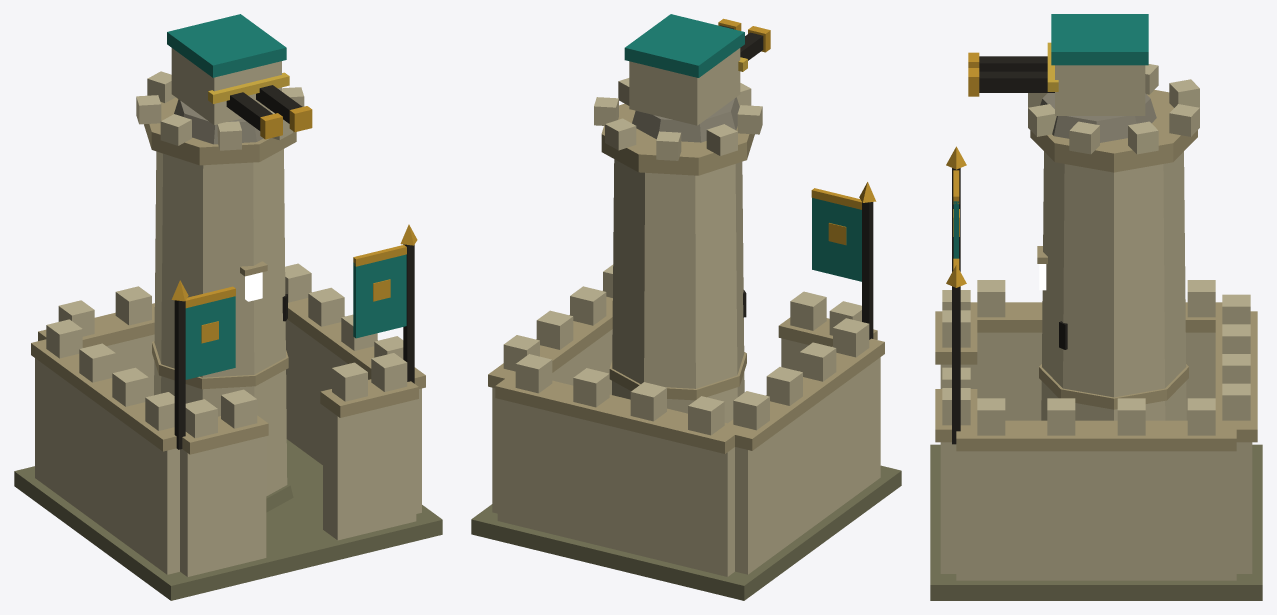
The model's file is outpost_t4.glb.
3 views of the same model, side by side, from view 1: azimuth 30°, elevation 25°; view 2: azimuth 150°, elevation 25°; view 3: azimuth 270°, elevation 25° (orthographic). The views are drawn at different scales.
Parts seen in each view (by area): view 1: body, part_turret; view 2: body, part_turret; view 3: body, part_turret.
Part boxes in pixels (bbox=[...]): body: bbox=[14, 71, 442, 600]; part_turret: bbox=[167, 14, 312, 144]; body: bbox=[471, 78, 901, 600]; part_turret: bbox=[624, 14, 770, 142]; body: bbox=[930, 64, 1262, 600]; part_turret: bbox=[968, 14, 1156, 142].
Size of the model in its own units: 1.9 by 3.14 by 1.9.
